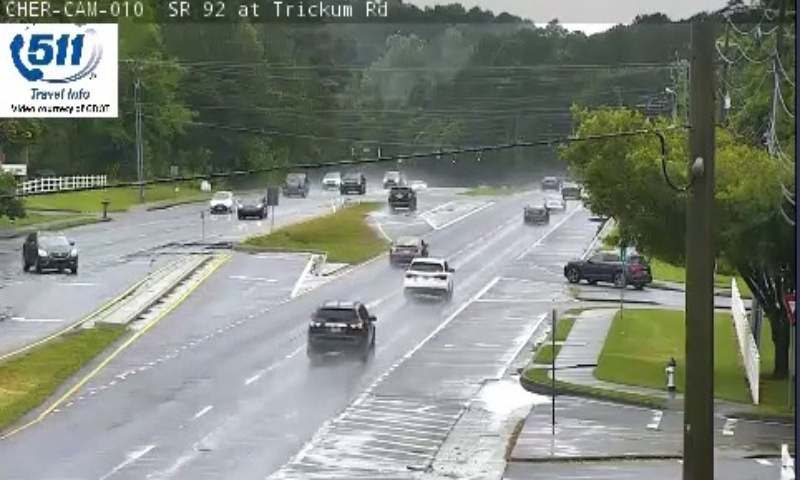car: (308, 301, 371, 351), (403, 256, 453, 295), (390, 238, 429, 261), (524, 201, 551, 226), (388, 185, 416, 209)
